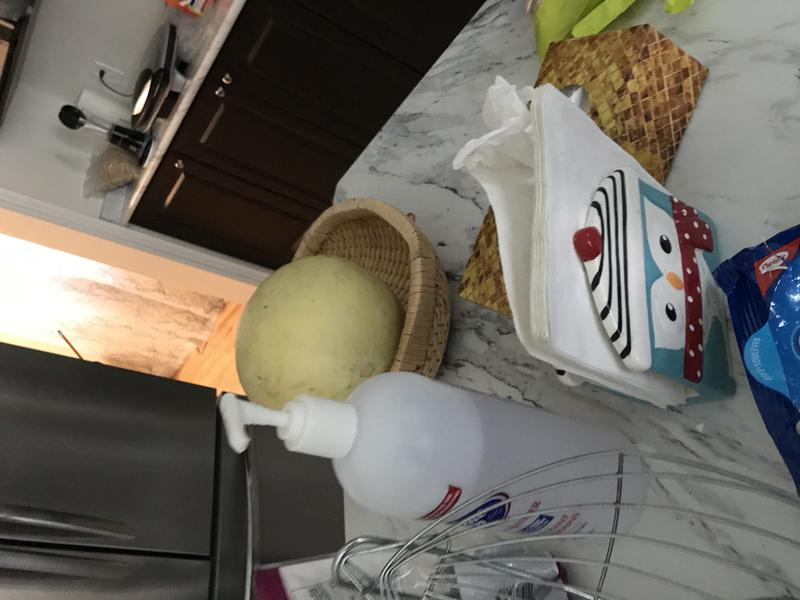honeydew: (231, 247, 408, 432)
